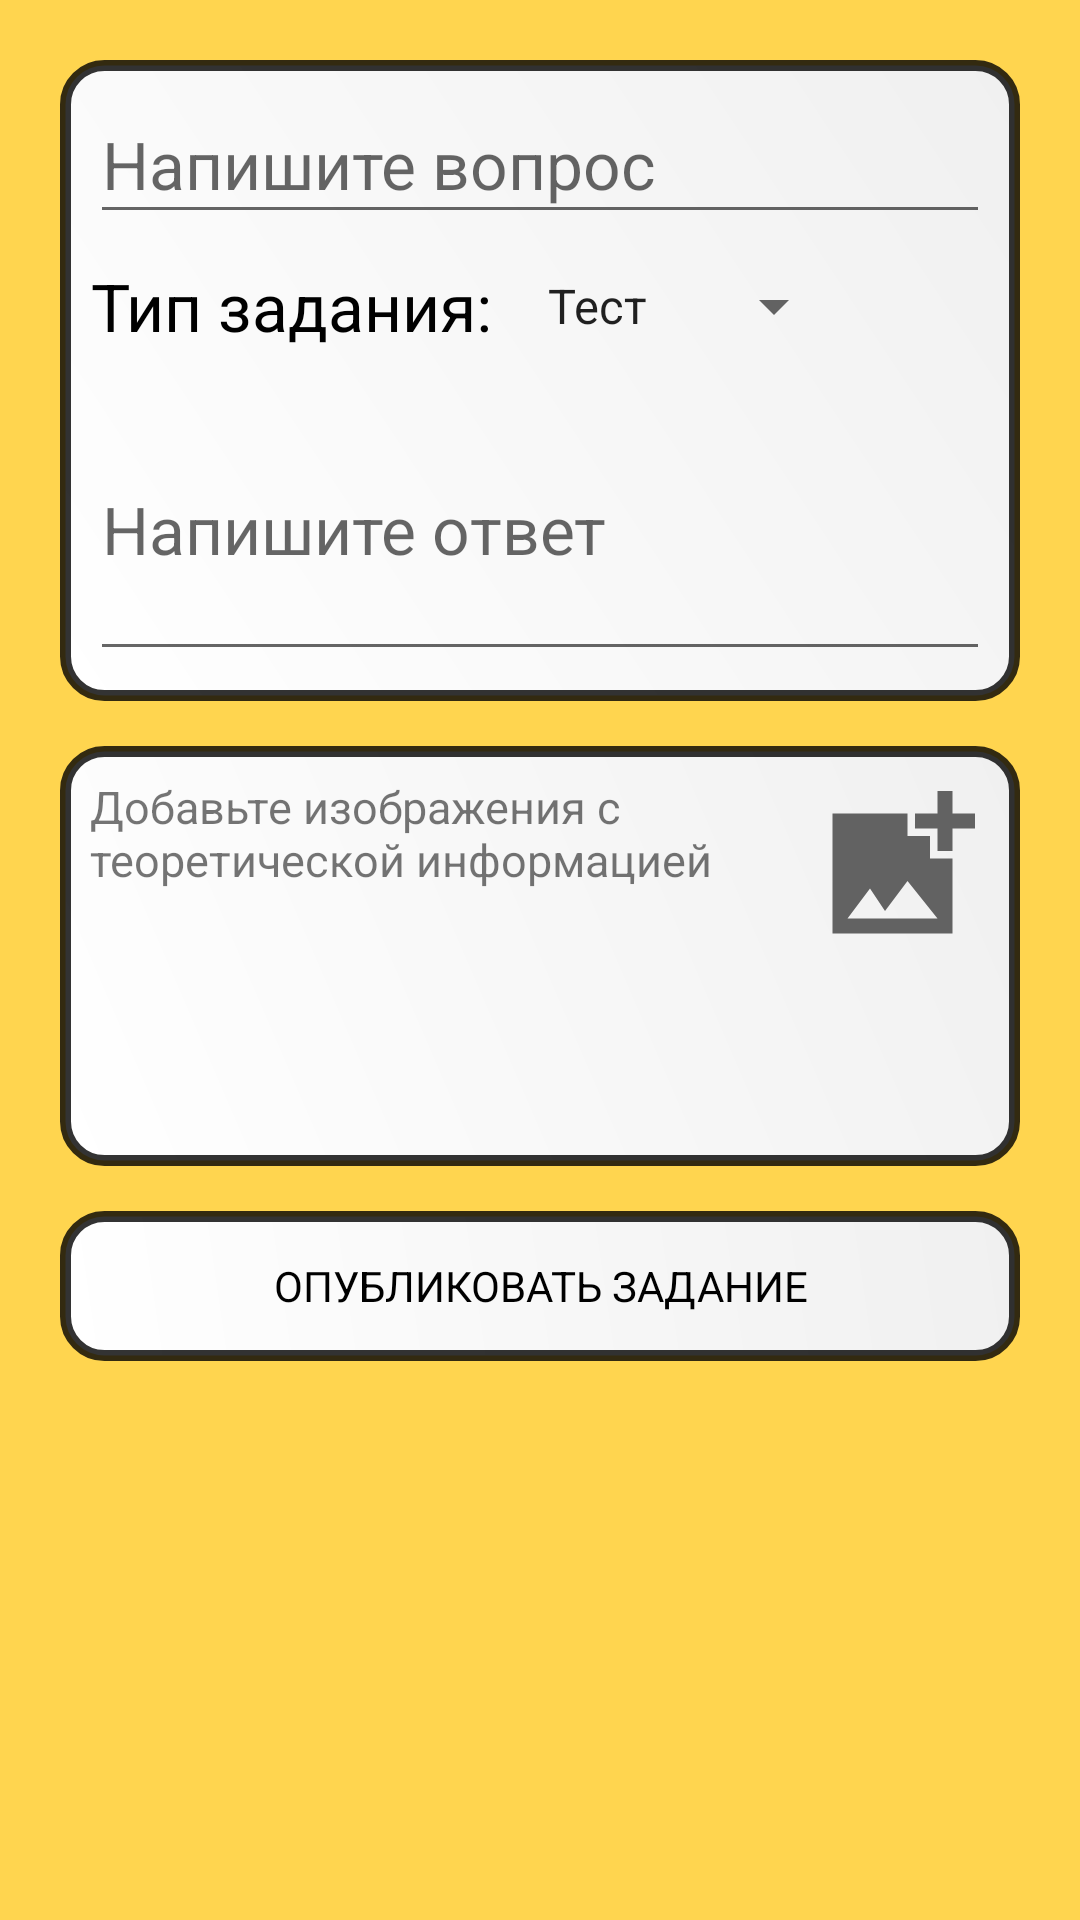

Screen size 1080 x 1920. Icon name, then its box in pixels as (x1, y1, x2, y2):
add photo alternate: (832, 791, 975, 934)
